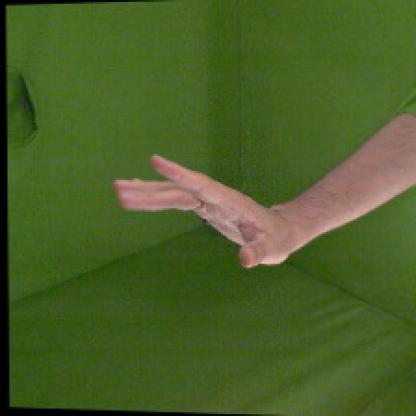Hand: (114, 155, 292, 268)
